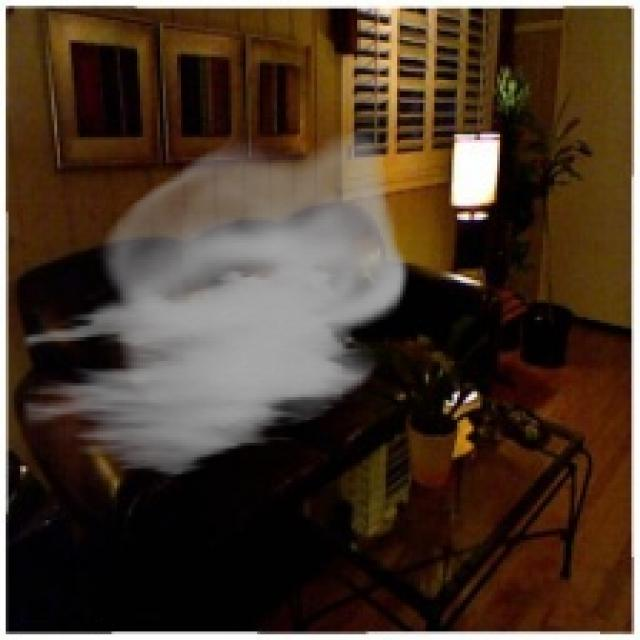smoke: (23, 131, 408, 480)
